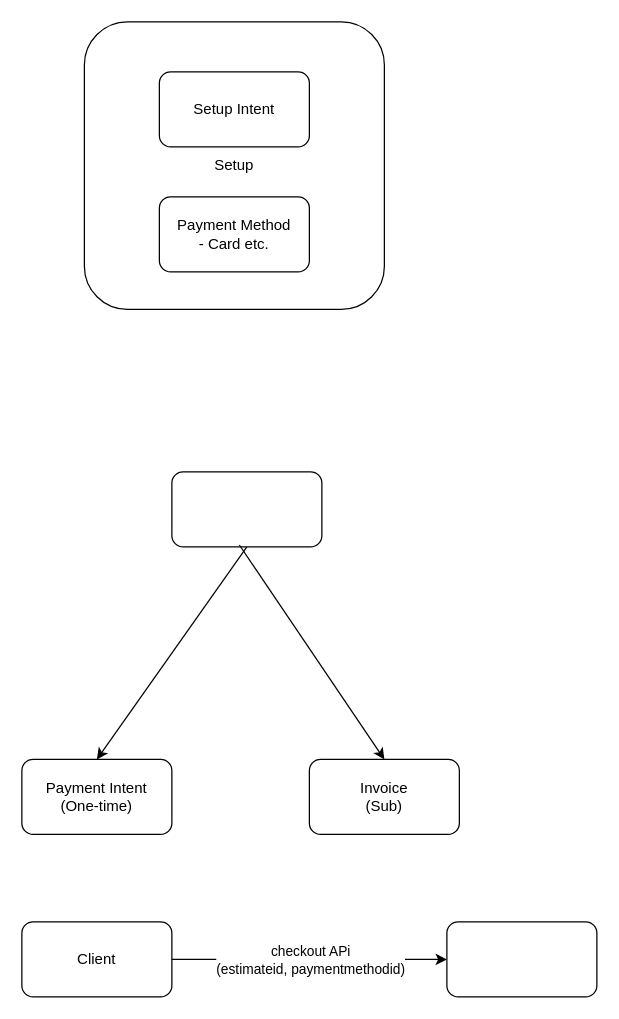
This 619x1019 diagram has some shape labels left out. The centre of each missing label's shape, as x and y in pixels:
"Payment MethodId" goes at [246,509].
"Server" goes at [521,959].
